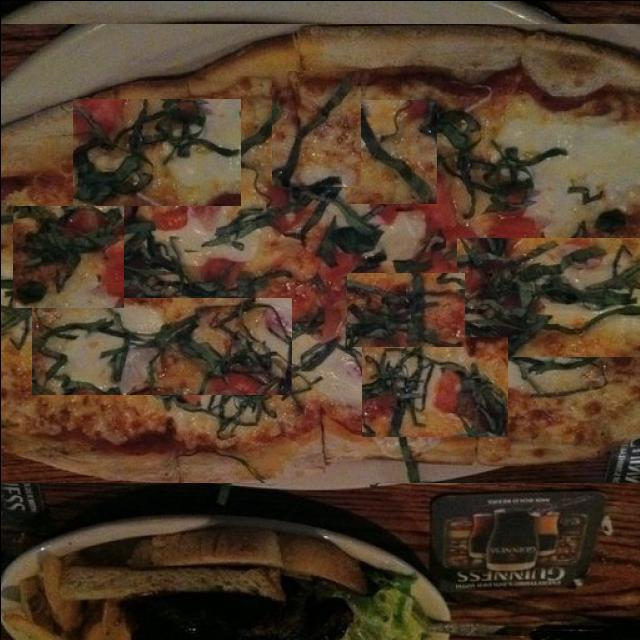basil: (31, 297, 291, 394), (456, 237, 639, 356), (72, 98, 240, 205), (361, 336, 507, 436), (289, 173, 442, 252), (12, 205, 123, 307), (271, 70, 360, 186), (344, 99, 436, 203), (346, 272, 464, 346), (294, 305, 376, 411), (483, 208, 639, 237)
pizza: (0, 23, 640, 482)
